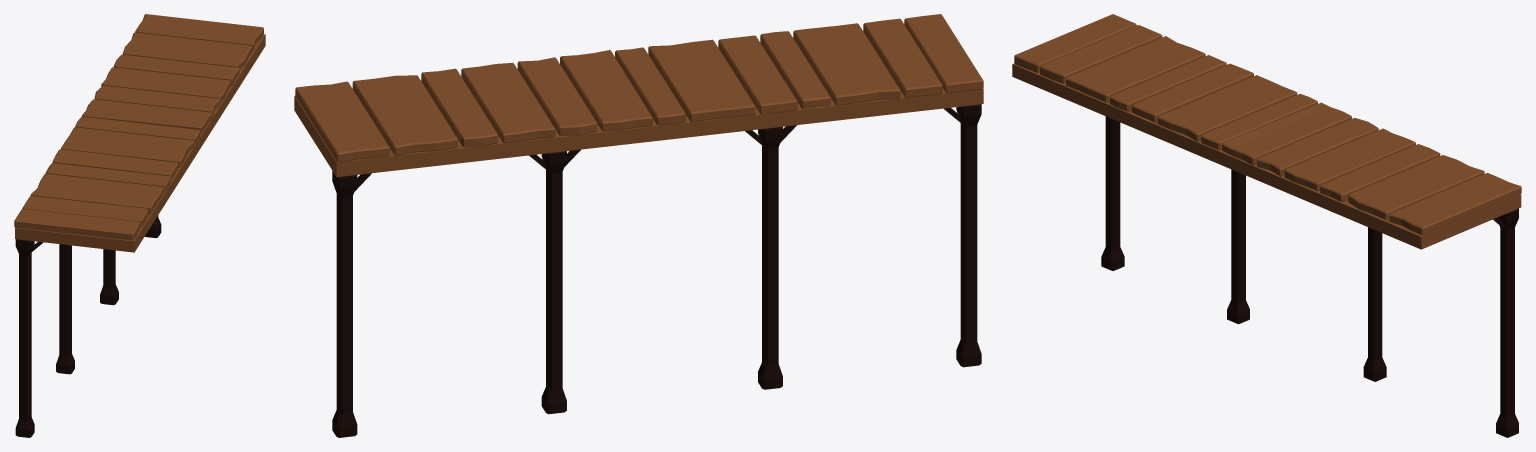
The model's file is ww_balcony_c.glb.
3 renders of one model, left to right at view 1: azimuth 30°, elevation 25°; view 2: azimuth 150°, elevation 25°; view 3: azimuth 270°, elevation 25°, orthographic. The views are drawn at different scales.
Parts seen in each view (by area): view 1: Balcony_C; view 2: Balcony_C; view 3: Balcony_C.
Part boxes in pixels (x1,y1,x2,y2): Balcony_C: [14, 14, 265, 437]; Balcony_C: [294, 14, 983, 437]; Balcony_C: [1012, 14, 1521, 437].
Bounding box in the file's own units: 6.52 × 3.51 × 6.52.
